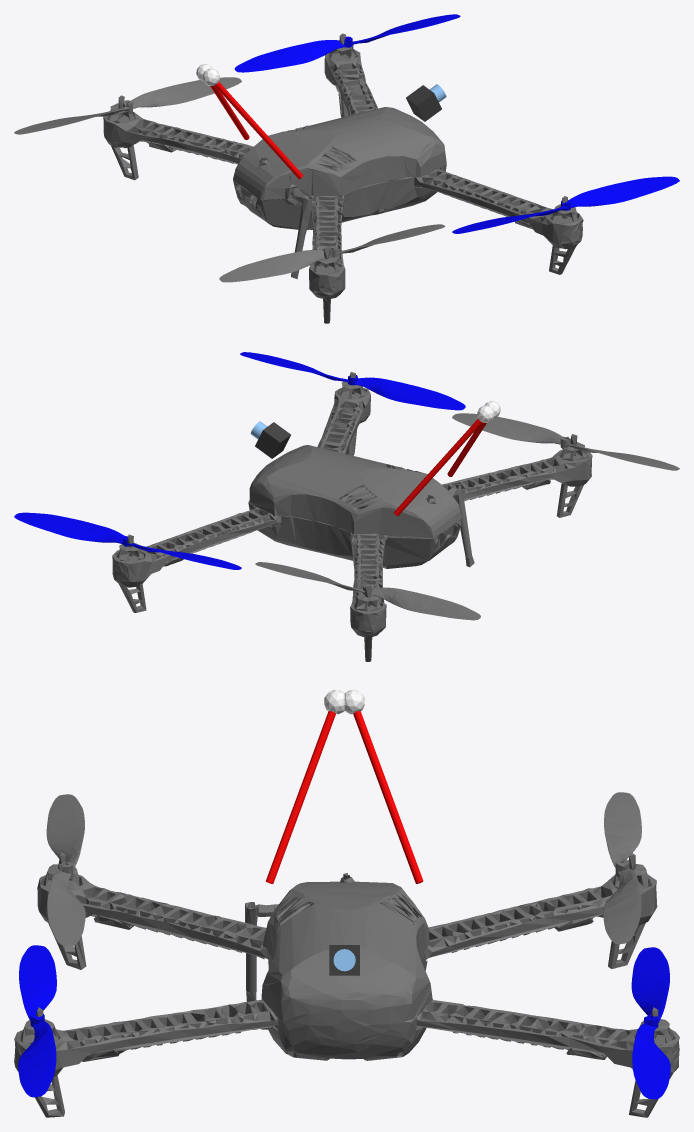
File: iris_fpv.glb
3 views of the same model, one above another, from view 1: azimuth 30°, elevation 25°; view 2: azimuth 150°, elevation 25°; view 3: azimuth 270°, elevation 25° (orthographic). The views are drawn at different scales.
Visible parts, largest first — view 1: base_link_v0, rotor_0_v0, rotor_2_v0, rotor_3_v0, rotor_1_v0, fpv_cam_v2, fpv_cam_v0; view 2: base_link_v0, rotor_0_v0, rotor_2_v0, rotor_1_v0, rotor_3_v0, fpv_cam_v4, fpv_cam_v0; view 3: base_link_v0, rotor_1_v0, rotor_3_v0, rotor_2_v0, rotor_0_v0, fpv_cam_v2, fpv_cam_v4.
Part boxes in pixels (x1,y1,x2,y2): base_link_v0: (103, 33, 583, 323); rotor_0_v0: (452, 176, 679, 233); rotor_2_v0: (234, 14, 460, 72); rotor_3_v0: (219, 224, 445, 282); rotor_1_v0: (14, 77, 241, 134); fpv_cam_v2: (214, 81, 303, 179); fpv_cam_v0: (406, 85, 441, 121); base_link_v0: (112, 372, 592, 661); rotor_0_v0: (240, 352, 465, 410); rotor_2_v0: (14, 512, 241, 569); rotor_1_v0: (255, 562, 480, 620); rotor_3_v0: (452, 413, 679, 470); fpv_cam_v4: (393, 418, 482, 516); fpv_cam_v0: (255, 422, 290, 458); base_link_v0: (14, 852, 679, 1117); rotor_1_v0: (603, 792, 641, 944); rotor_3_v0: (46, 794, 85, 946); rotor_2_v0: (631, 947, 670, 1099); rotor_0_v0: (18, 945, 56, 1097); fpv_cam_v2: (265, 711, 335, 883); fpv_cam_v4: (353, 711, 423, 883).
Bounding box in the file's own units: 0.5214 × 0.219 × 0.4781.
